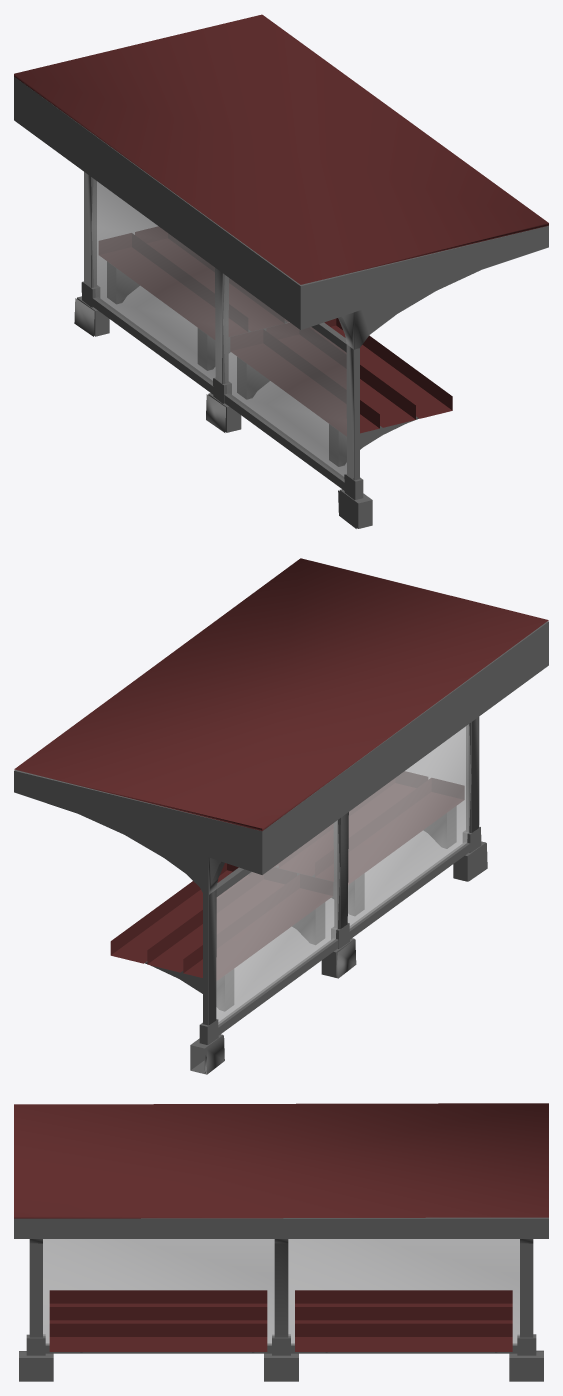
Rendered from busStop.fbx.
3 renders of one model, top to bottom at view 1: azimuth 30°, elevation 25°; view 2: azimuth 150°, elevation 25°; view 3: azimuth 270°, elevation 25°, orthographic. The views are drawn at different scales.
Parts seen in each view (by area): view 1: Plane.001; view 2: Plane.001; view 3: Plane.001.
Boxes of the visible parts, <box> form: Plane.001: <box>14,14,548,528</box>; Plane.001: <box>14,558,548,1074</box>; Plane.001: <box>14,1103,548,1381</box>.
Size of the model in its own units: 600 by 605 by 1200.
